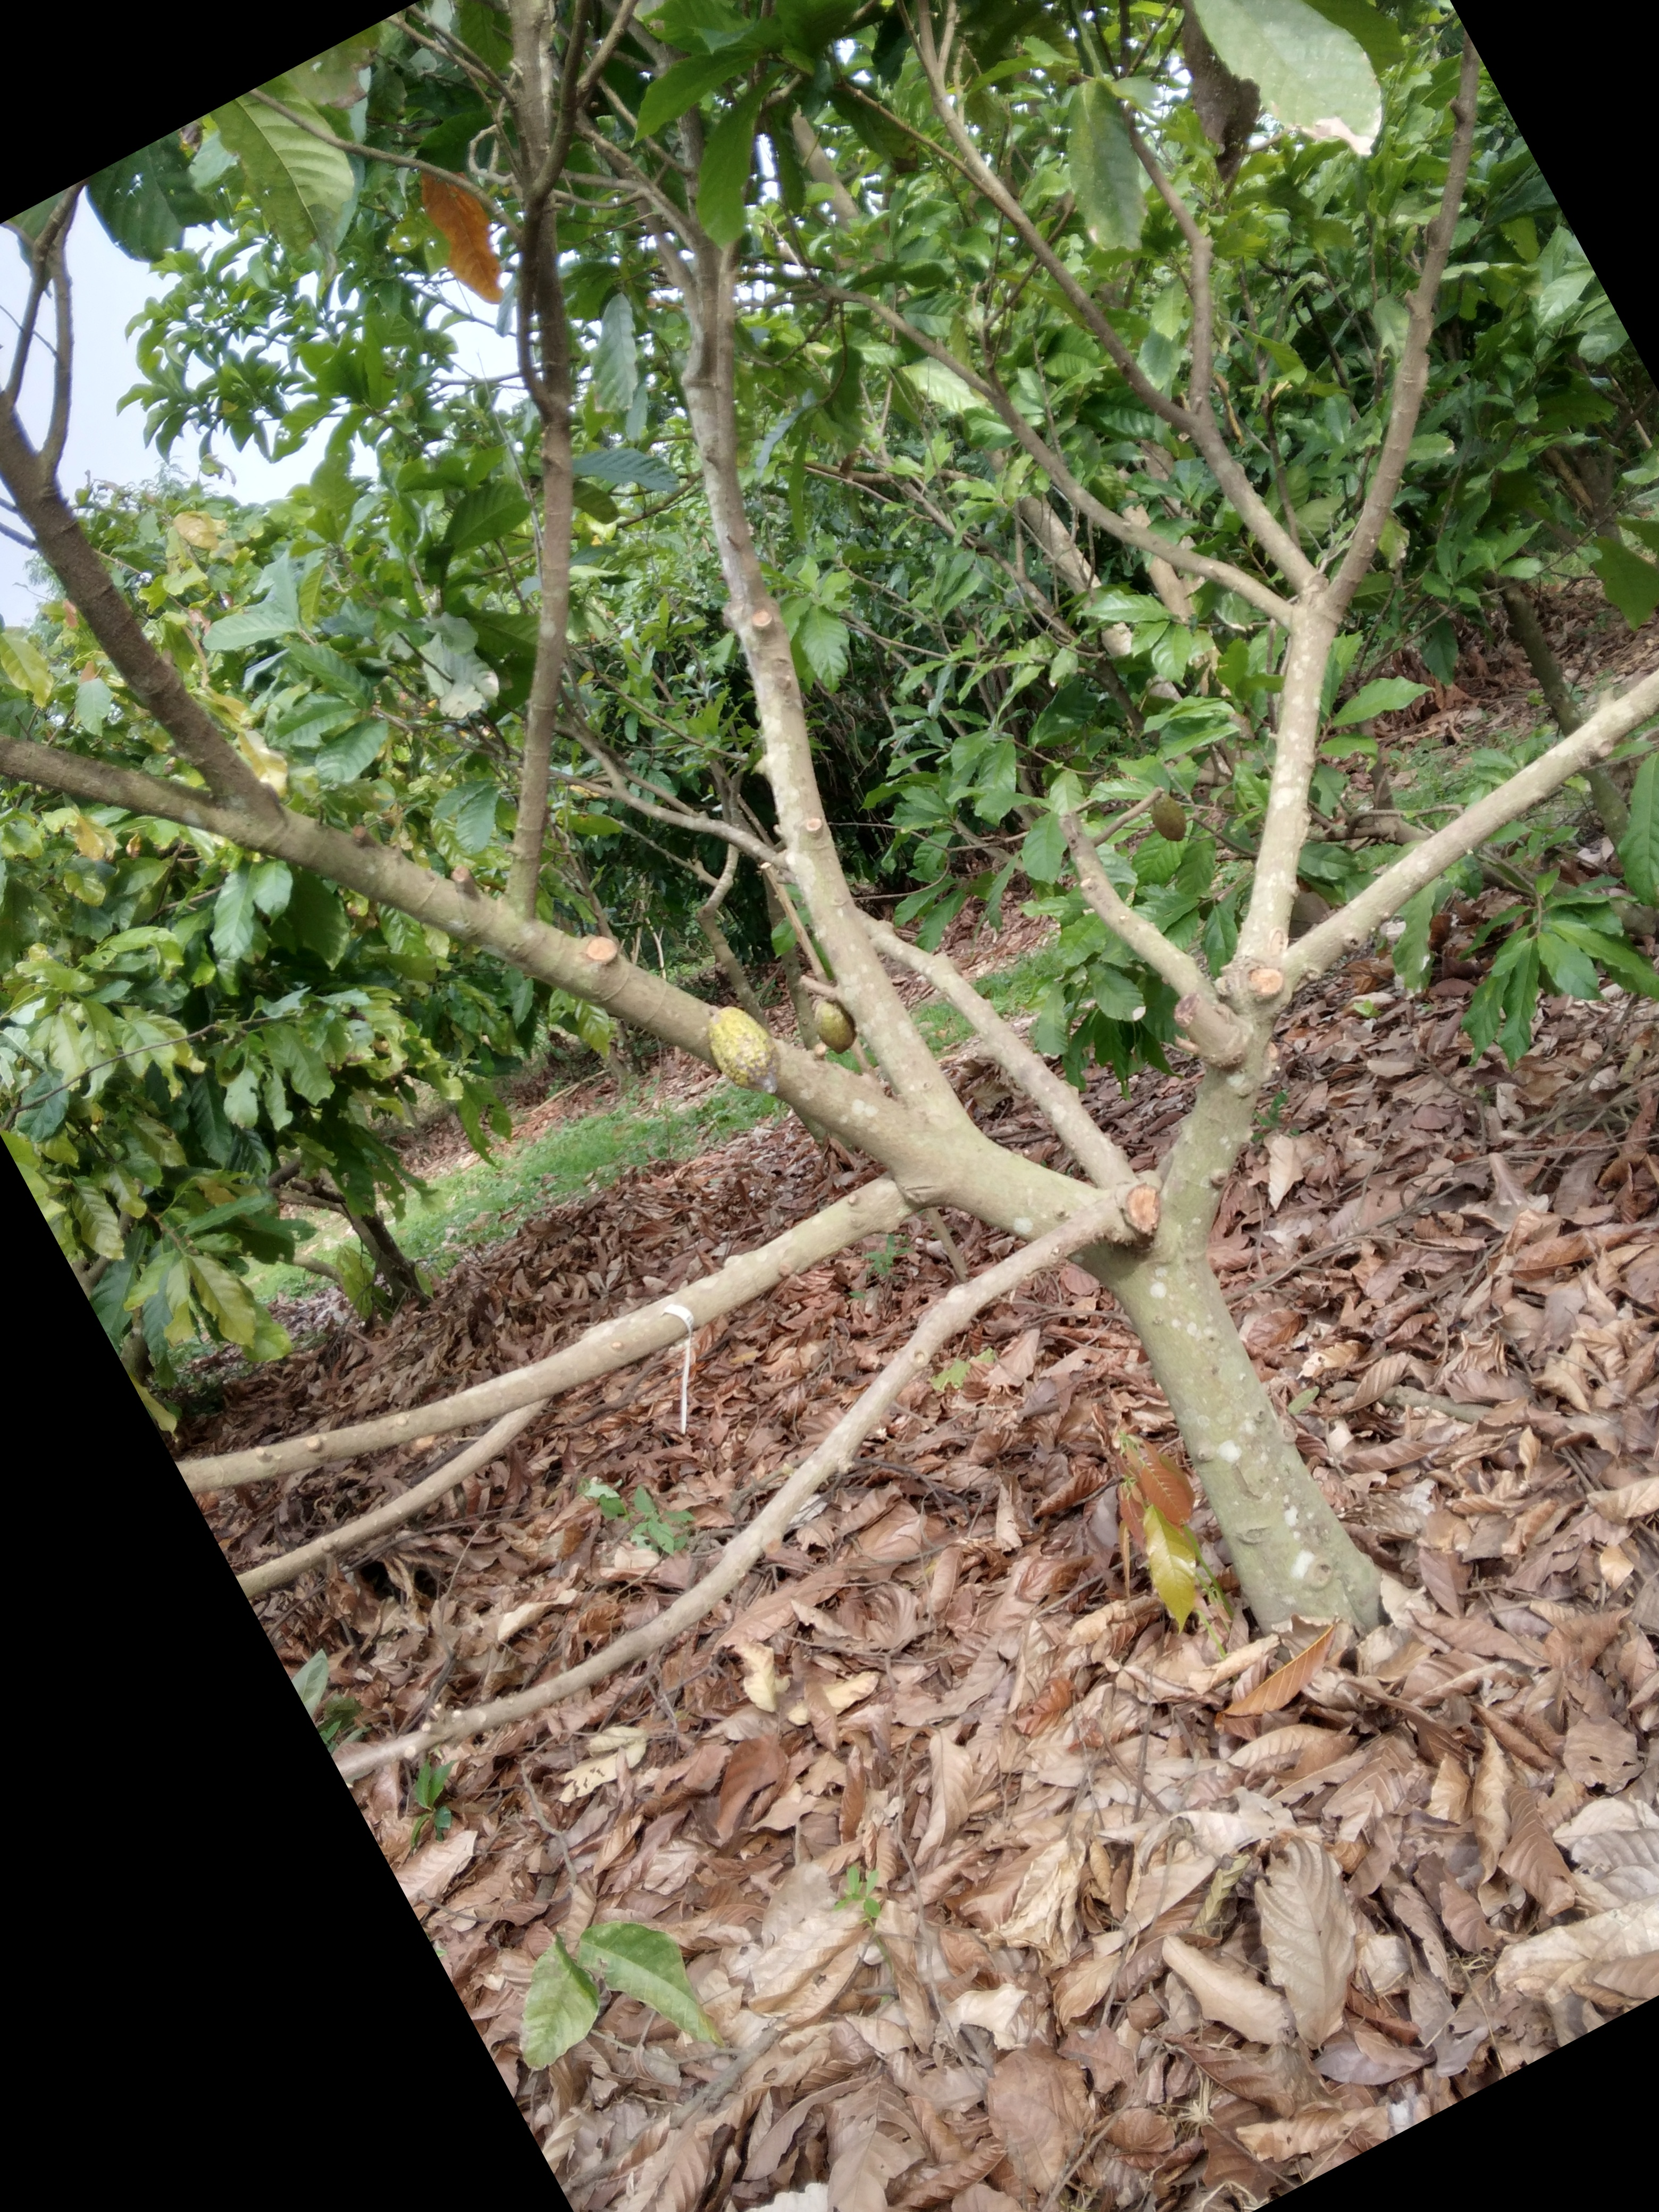cocoa_pod: (983, 1256, 1086, 1362), (960, 1160, 1030, 1230), (709, 723, 769, 784)
